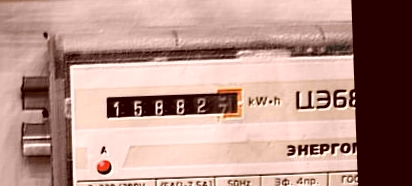1: (112, 100, 122, 116)
2: (196, 96, 206, 113)
5: (133, 99, 144, 115)
7: (218, 102, 227, 113)
8: (175, 97, 186, 115), (154, 99, 165, 116)
screen: (100, 83, 249, 127)
